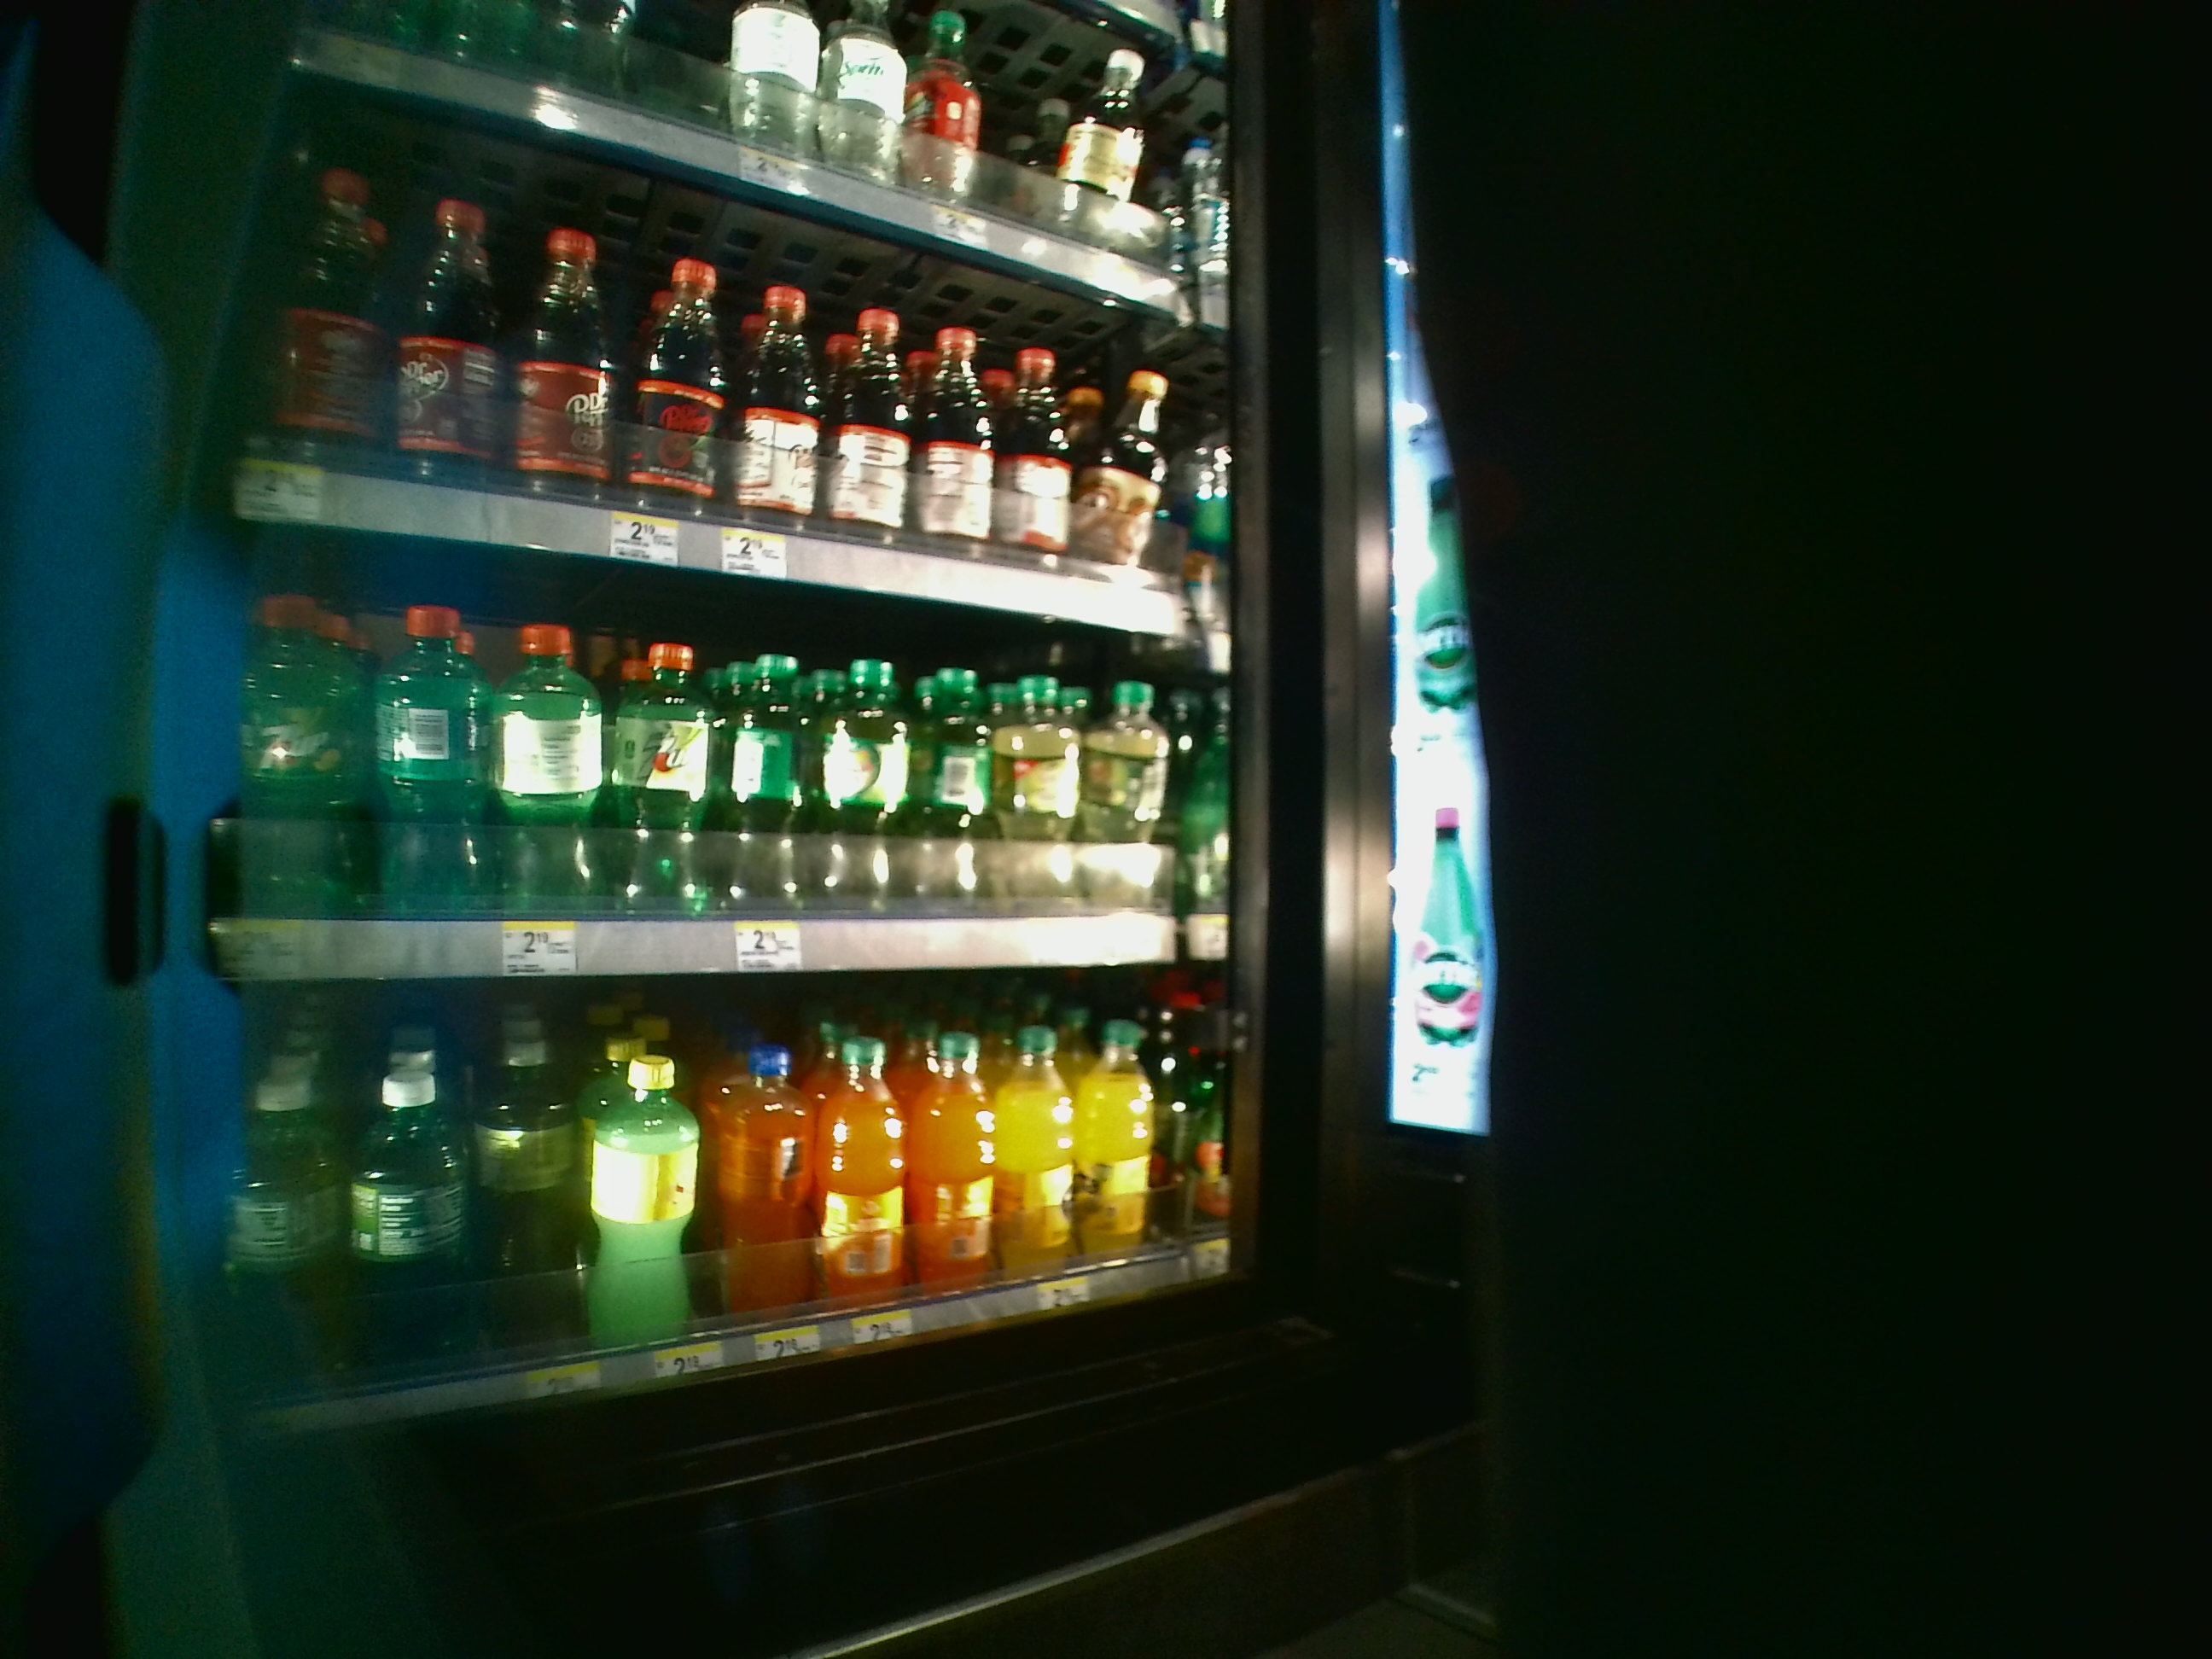shelf: (244, 974, 1249, 1405), (237, 599, 1240, 1000), (266, 206, 1205, 626)
